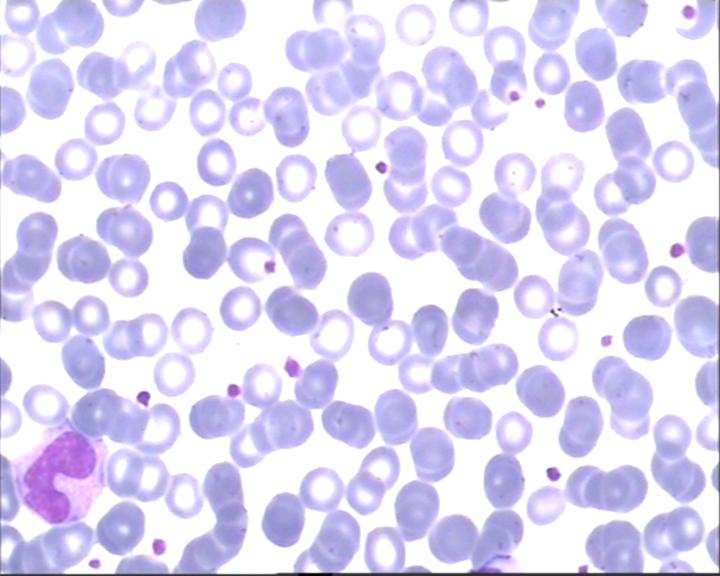mono: (9, 421, 112, 524)
